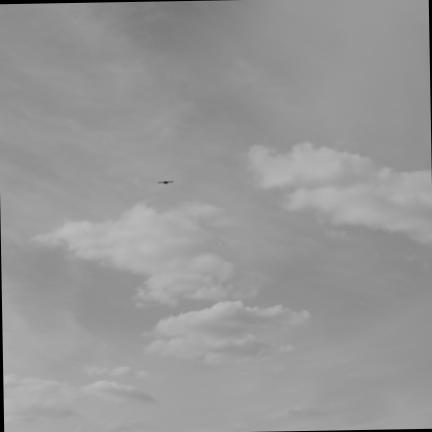Shahed: (157, 180, 172, 183)
